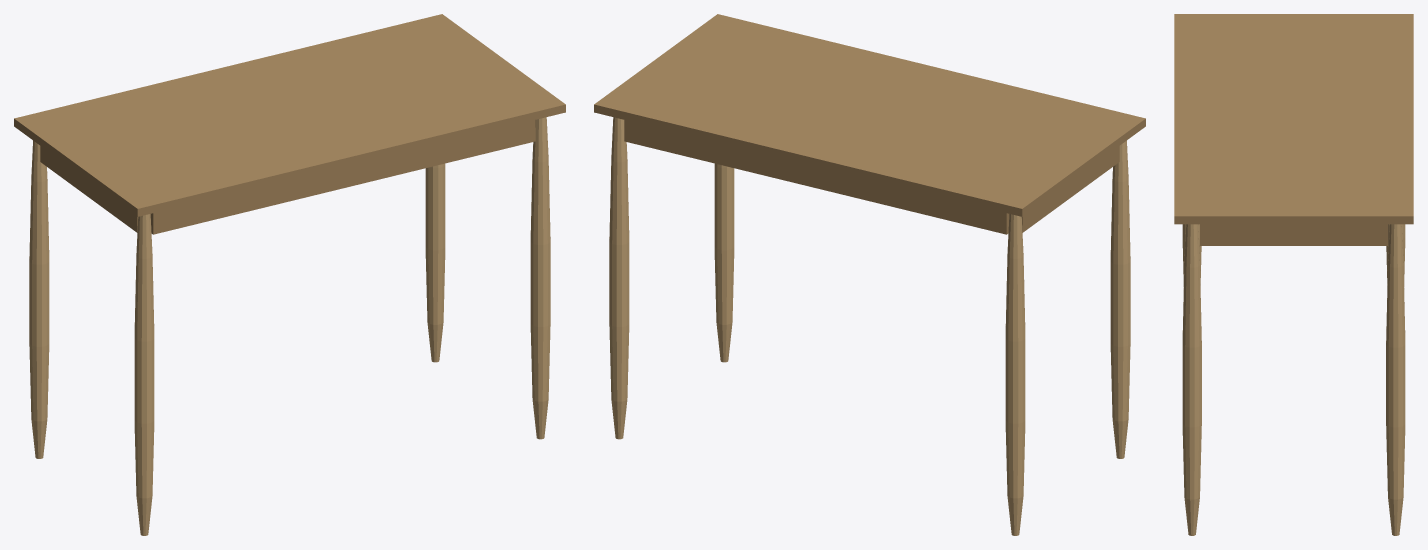
Rendered from SAB-SDK-std.glb.
3 renders of one model, left to right at view 1: azimuth 30°, elevation 25°; view 2: azimuth 150°, elevation 25°; view 3: azimuth 270°, elevation 25°, orthographic. The views are drawn at different scales.
Visible parts, largest first — view 1: top:pbr, apron-f:pbr, leg-fl:pbr, leg-fr:pbr, leg-bl:pbr, leg-br:pbr, apron-l:pbr; view 2: top:pbr, apron-b:pbr, leg-bl:pbr, leg-br:pbr, leg-fl:pbr, leg-fr:pbr, apron-l:pbr; view 3: top:pbr, leg-fr:pbr, leg-br:pbr, apron-r:pbr.
Part boxes in pixels (x1,y1,x2,y2): top:pbr: (14,14,565,216); apron-f:pbr: (150,120,535,234); leg-fl:pbr: (134,214,154,535); leg-fr:pbr: (530,117,550,439); leg-bl:pbr: (29,140,49,458); leg-br:pbr: (425,163,445,362); apron-l:pbr: (40,146,138,232); top:pbr: (594,14,1145,216); apron-b:pbr: (624,120,1009,234); leg-bl:pbr: (1005,214,1025,535); leg-br:pbr: (609,117,629,439); leg-fl:pbr: (1110,140,1130,458); leg-fr:pbr: (714,163,734,362); apron-l:pbr: (1021,146,1119,232); top:pbr: (1174,14,1413,224); leg-fr:pbr: (1182,224,1201,535); leg-br:pbr: (1386,224,1405,535); apron-r:pbr: (1200,224,1387,245).
Size of the model in its own units: 1.4 by 1.05 by 0.7.
